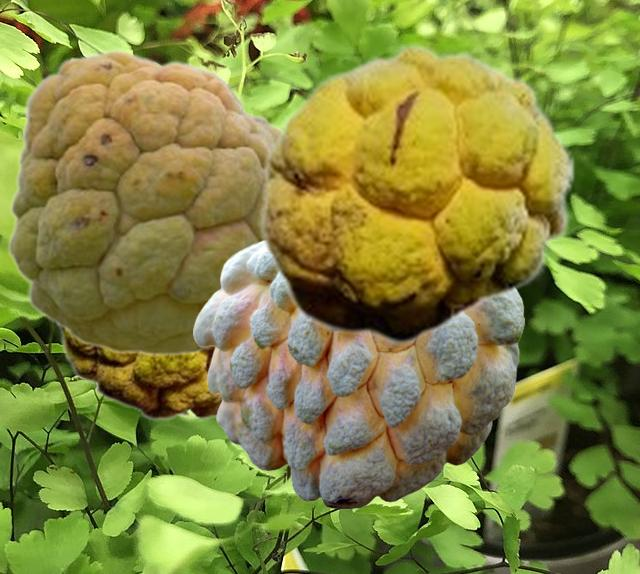atis: (257, 42, 575, 344), (193, 240, 523, 508), (6, 48, 279, 355), (56, 328, 220, 420)
